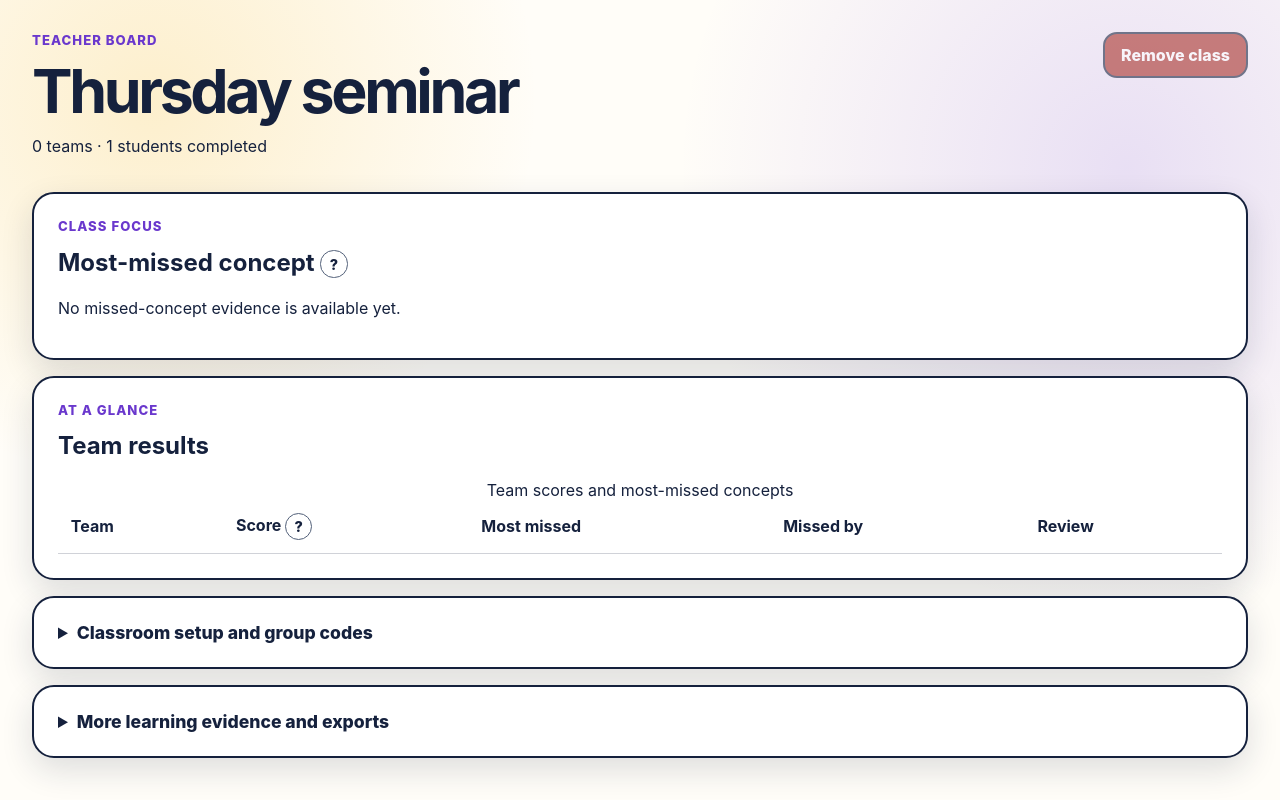
it: shows group assignments and student readiness details
This screenshot has width=1280, height=800.
Click the heading "Classroom setup and group codes": (225, 632) x1=77 y1=622 x2=373 y2=643
(page scrolled)
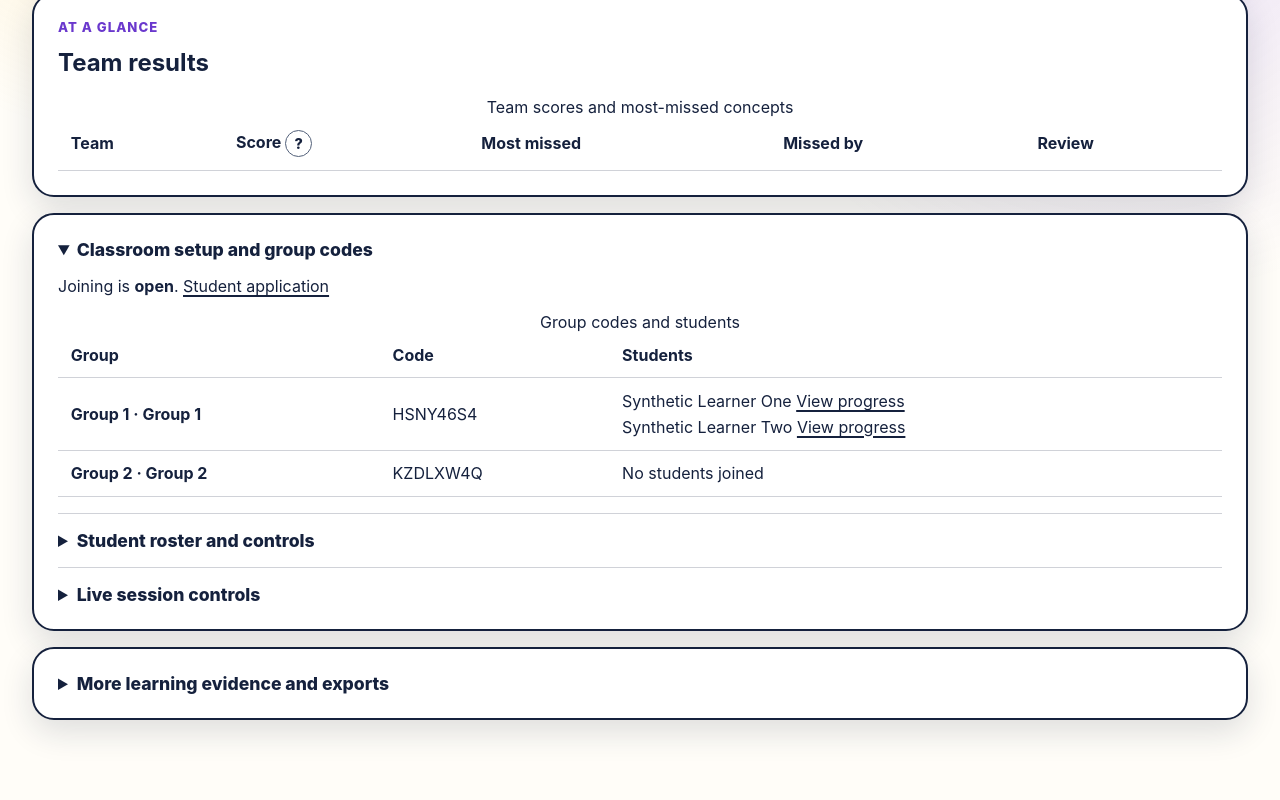
Click the heading "Student roster and controls": (196, 541) x1=77 y1=530 x2=315 y2=551
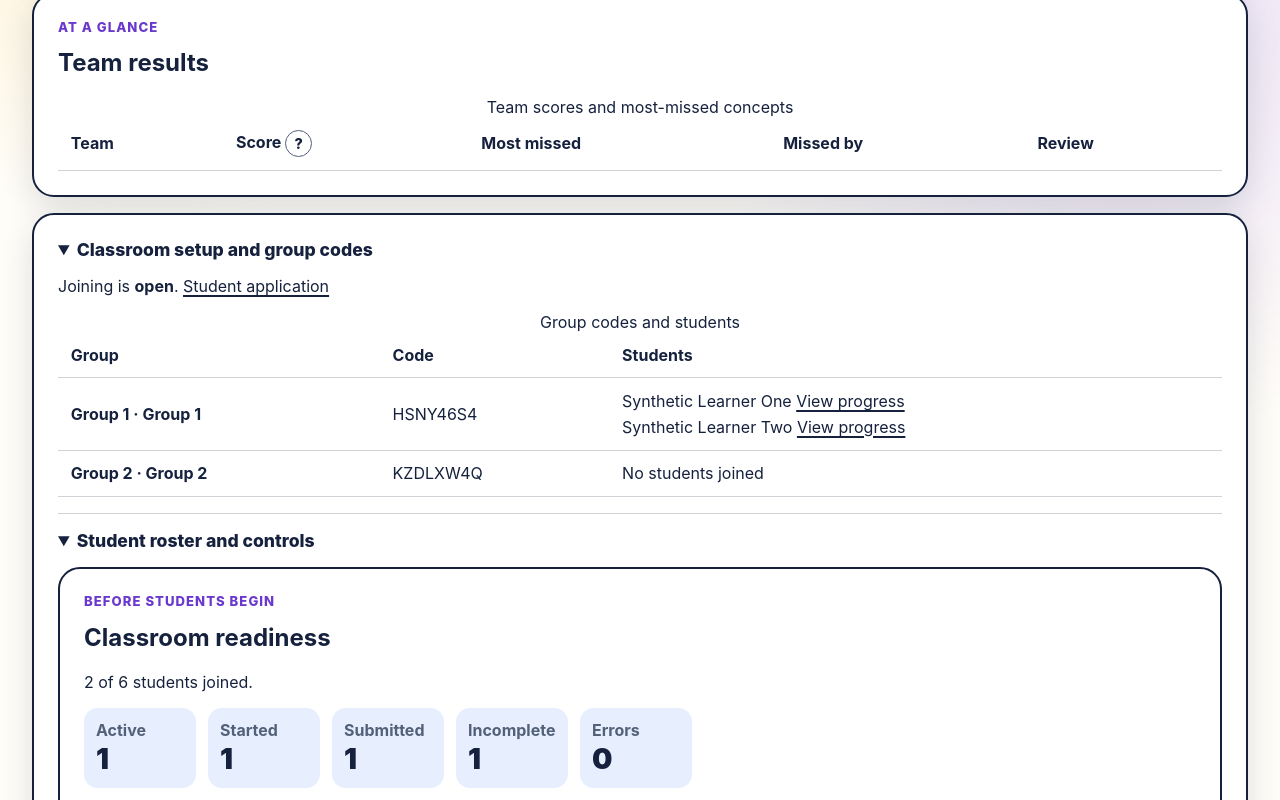
Expected: the text "HSNY46S4" is shown, x1=380 y1=378 x2=609 y2=450
Expected: the text "2 of 6 students joined." is shown, x1=84 y1=672 x2=253 y2=692
Expected: the text "Incomplete" is shown 2 times
